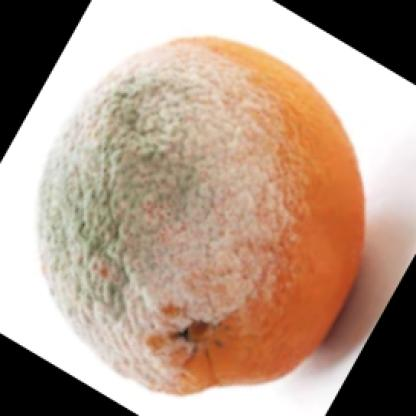rotten: (35, 37, 367, 399)
